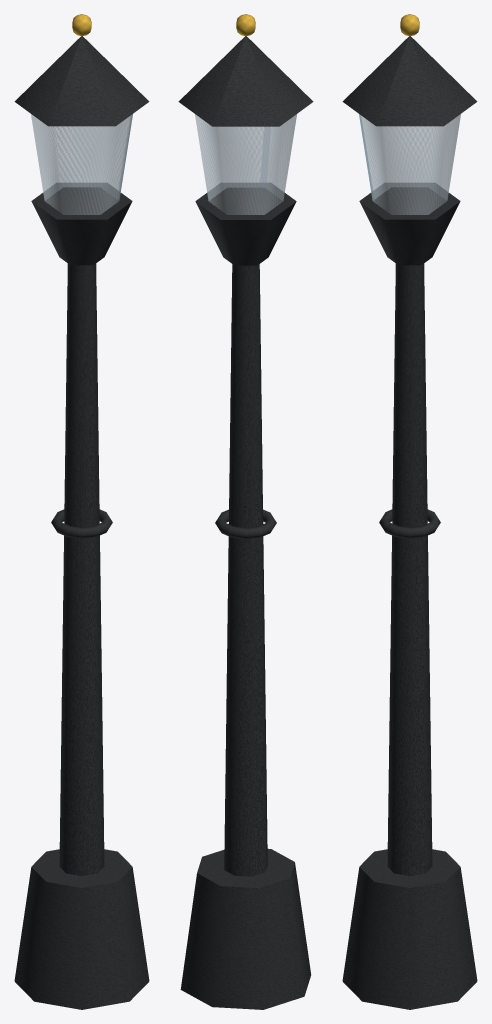
Rendered from farol_colonial.obj.
3 renders of one model, left to right at view 1: azimuth 90°, elevation 25°; view 2: azimuth 150°, elevation 25°; view 3: azimuth 270°, elevation 25°, orthographic.
Visible parts, largest first — view 1: Mesh_33, Mesh_1, Mesh_233, Mesh_257, Mesh_209, Mesh_65, Mesh_269; view 2: Mesh_33, Mesh_1, Mesh_233, Mesh_257, Mesh_209, Mesh_65, Mesh_269; view 3: Mesh_33, Mesh_1, Mesh_233, Mesh_257, Mesh_209, Mesh_65, Mesh_269.
Part boxes in pixels (bbox=[...]): Mesh_33: bbox=[59, 263, 104, 875]; Mesh_1: bbox=[14, 849, 149, 1009]; Mesh_233: bbox=[31, 114, 132, 214]; Mesh_257: bbox=[14, 36, 149, 126]; Mesh_209: bbox=[31, 183, 132, 265]; Mesh_65: bbox=[51, 509, 112, 538]; Mesh_269: bbox=[72, 14, 91, 36]; Mesh_33: bbox=[224, 264, 267, 876]; Mesh_1: bbox=[180, 848, 311, 1009]; Mesh_233: bbox=[195, 114, 296, 214]; Mesh_257: bbox=[178, 36, 313, 126]; Mesh_209: bbox=[195, 183, 296, 265]; Mesh_65: bbox=[215, 509, 276, 539]; Mesh_269: bbox=[236, 14, 255, 36]; Mesh_33: bbox=[387, 263, 432, 875]; Mesh_1: bbox=[342, 849, 477, 1009]; Mesh_233: bbox=[359, 114, 460, 214]; Mesh_257: bbox=[342, 36, 477, 126]; Mesh_209: bbox=[359, 183, 460, 265]; Mesh_65: bbox=[379, 509, 440, 538]; Mesh_269: bbox=[400, 14, 419, 36].
Bounding box in the file's own units: 0.48 × 3.79 × 0.48.
3 materials, 3 textured.
